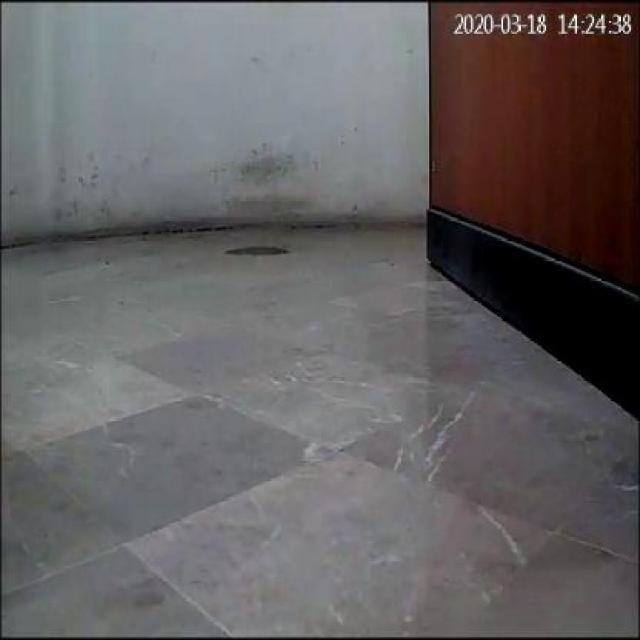spill: (224, 244, 290, 258)
